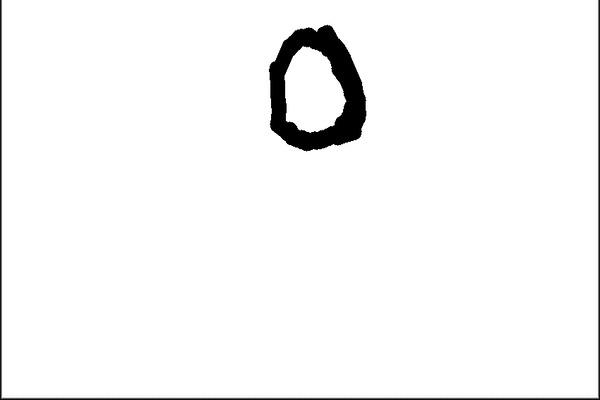O: (258, 21, 377, 156)
